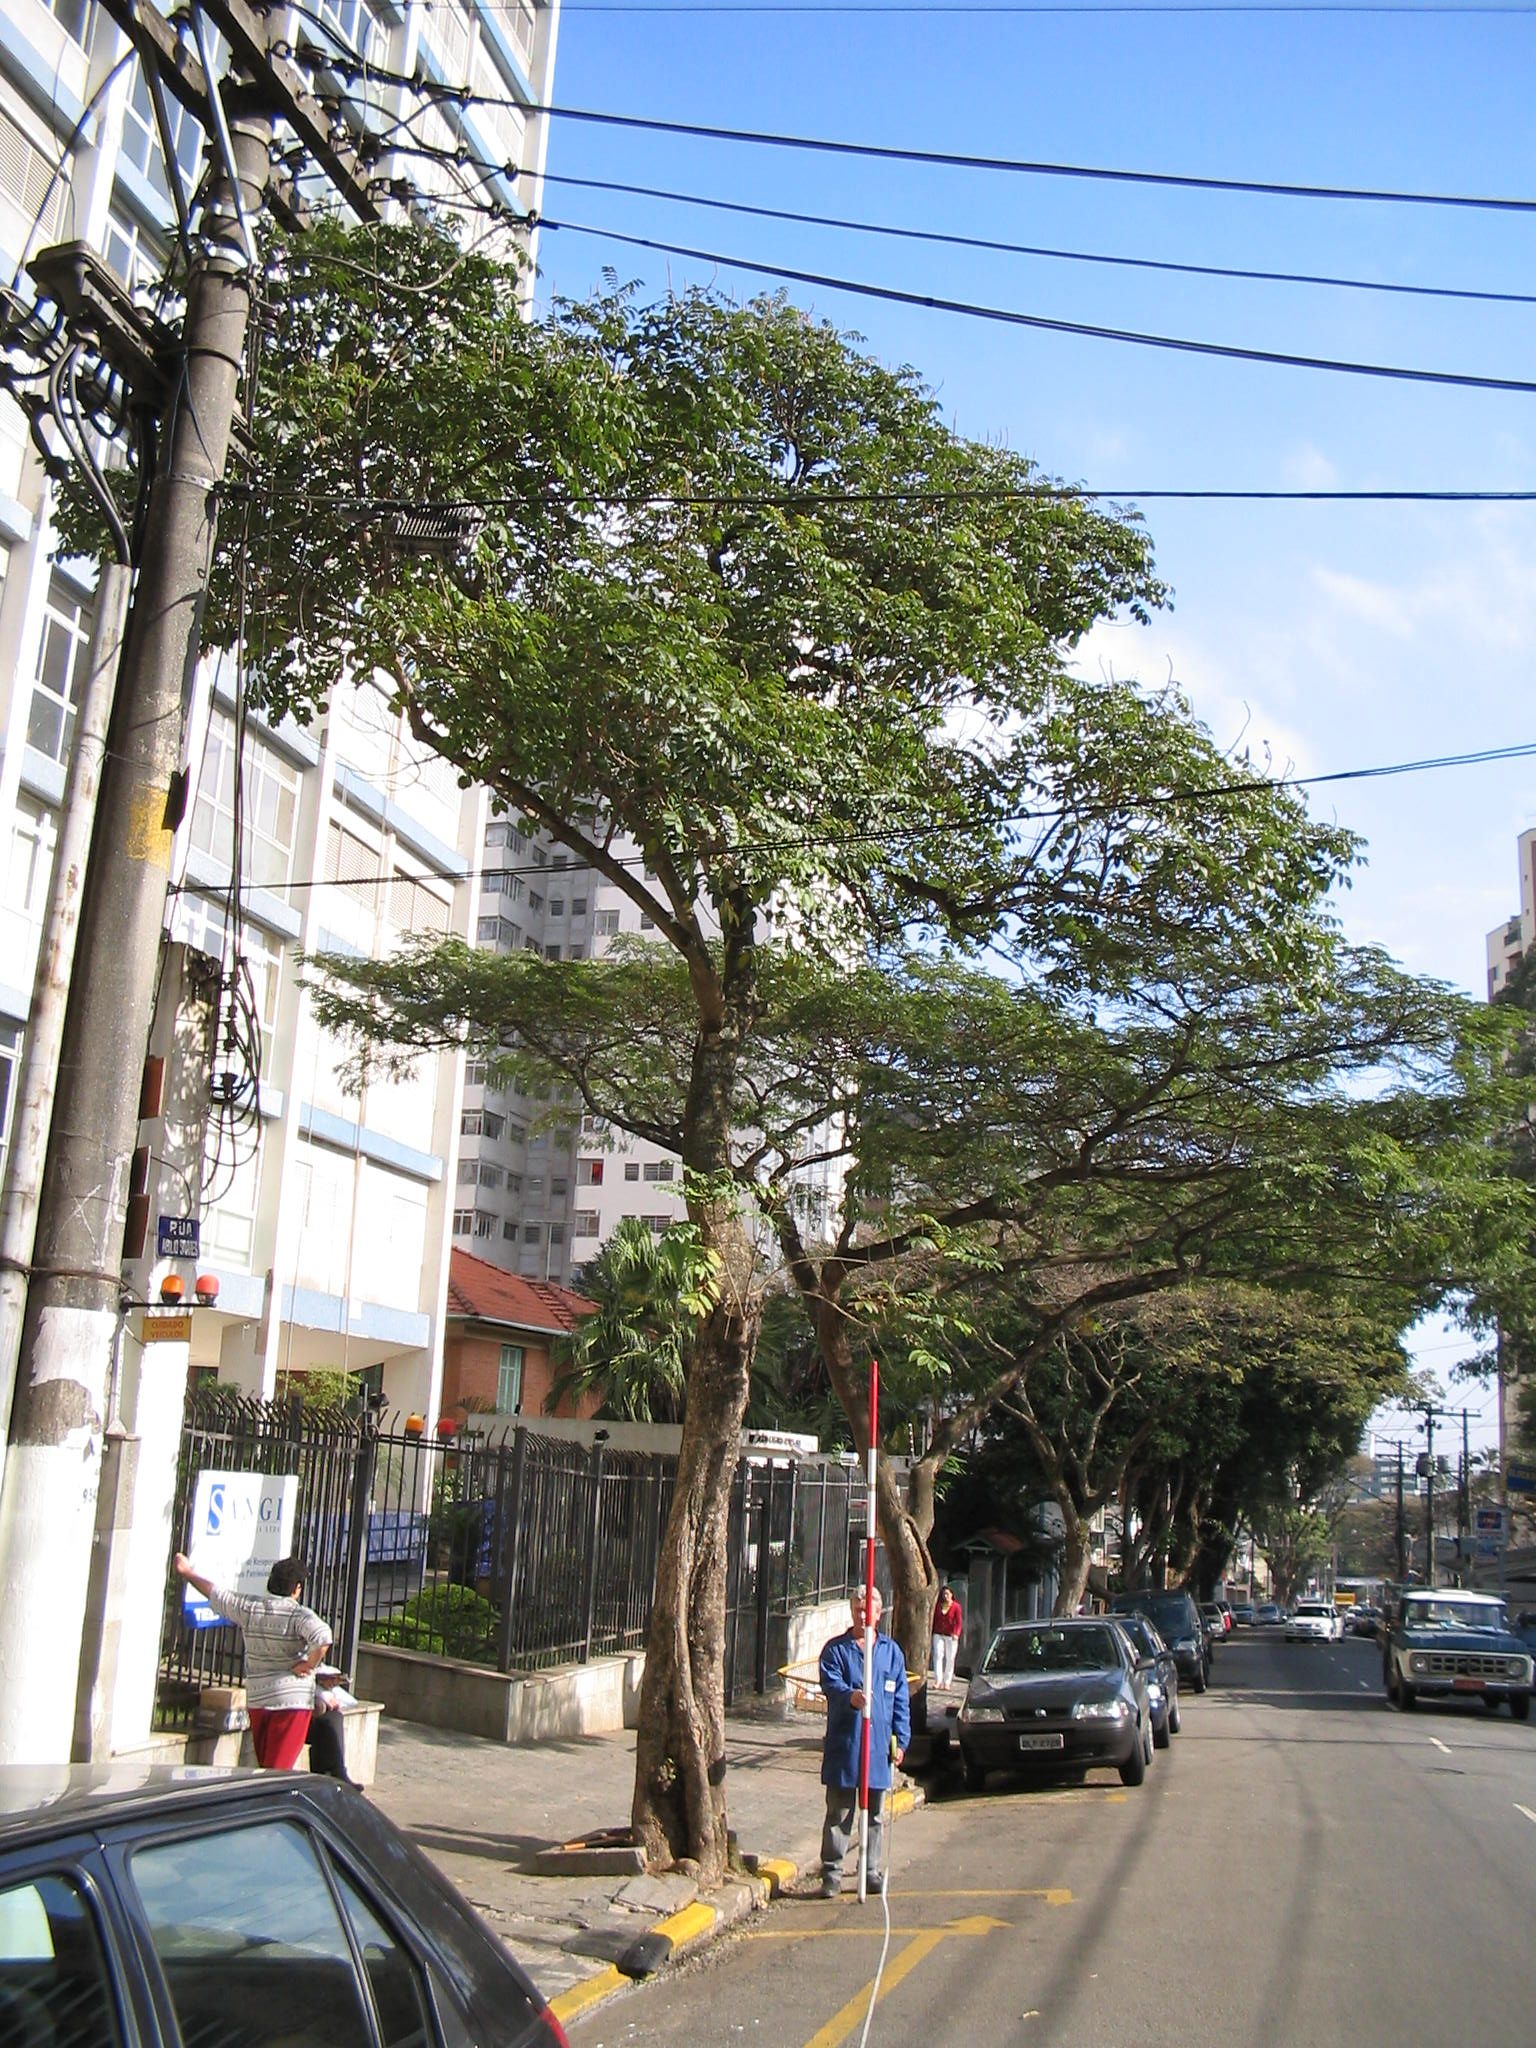crown: (65, 182, 1176, 940)
stem: (574, 1361, 786, 1875)
stick: (837, 1363, 904, 1908)
tree: (52, 184, 1183, 1884)
